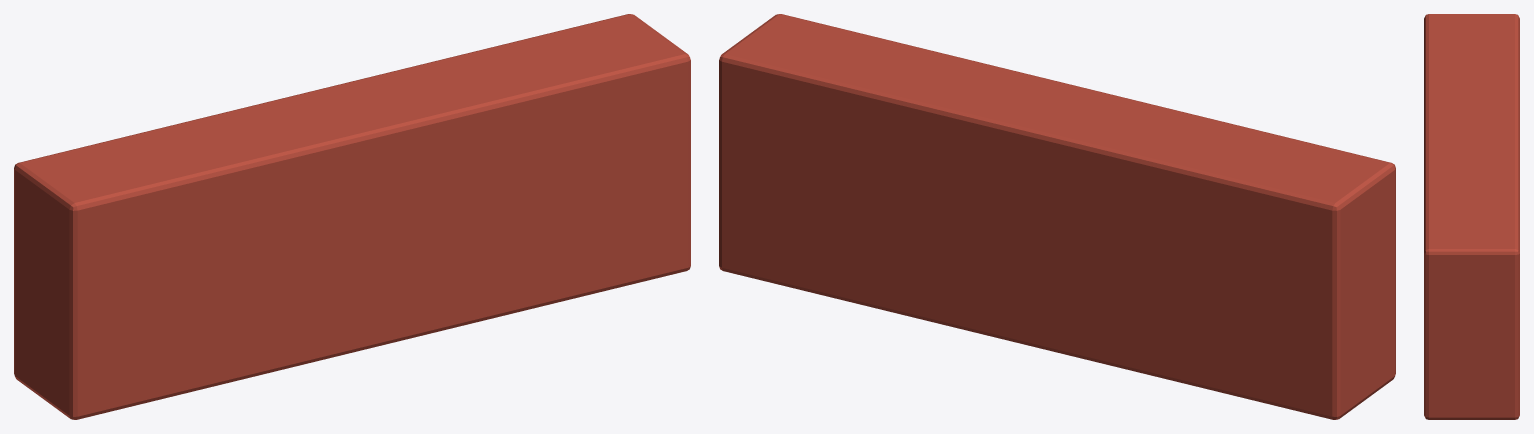
Rendered from PlankWood3.fbx.
3 views of the same model, side by side, from view 1: azimuth 30°, elevation 25°; view 2: azimuth 150°, elevation 25°; view 3: azimuth 270°, elevation 25° (orthographic). The views are drawn at different scales.
Parts seen in each view (by area): view 1: Cube.003; view 2: Cube.003; view 3: Cube.003.
Boxes of the visible parts, left/top/right/bottom form: Cube.003: left=14, top=14, right=690, bottom=419; Cube.003: left=719, top=14, right=1395, bottom=419; Cube.003: left=1424, top=14, right=1519, bottom=419.
Bounding box in the file's own units: 2.99 × 1 × 0.5072.
